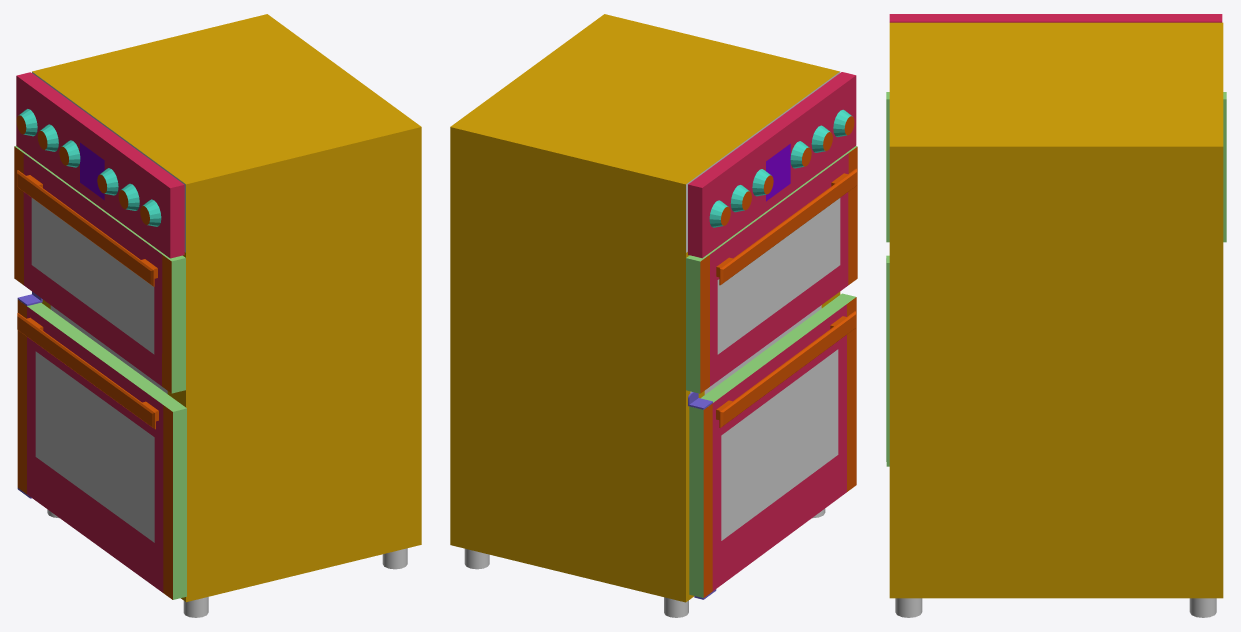
The model's file is Electric_Oven.fbx.
The picture shows the model from 3 angles, left to right: view 1: azimuth 30°, elevation 25°; view 2: azimuth 150°, elevation 25°; view 3: azimuth 270°, elevation 25°; orthographic projection. The views are drawn at different scales.
Parts seen in each view (by area): view 1: Oven_Main, Door_Bottom, Door_Top; view 2: Oven_Main, Door_Bottom, Door_Top; view 3: Oven_Main, Door_Top, Door_Bottom.
Part boxes in pixels (x1,y1,x2,y2): Oven_Main: (16, 14, 421, 617); Door_Bottom: (17, 300, 186, 599); Door_Top: (14, 146, 185, 393); Oven_Main: (450, 14, 856, 617); Door_Bottom: (689, 293, 856, 597); Door_Top: (686, 146, 857, 393); Oven_Main: (889, 14, 1223, 617); Door_Top: (886, 92, 1226, 242); Door_Bottom: (886, 255, 889, 466).
Size of the model in its own units: 56.08 by 89.99 by 58.41.
